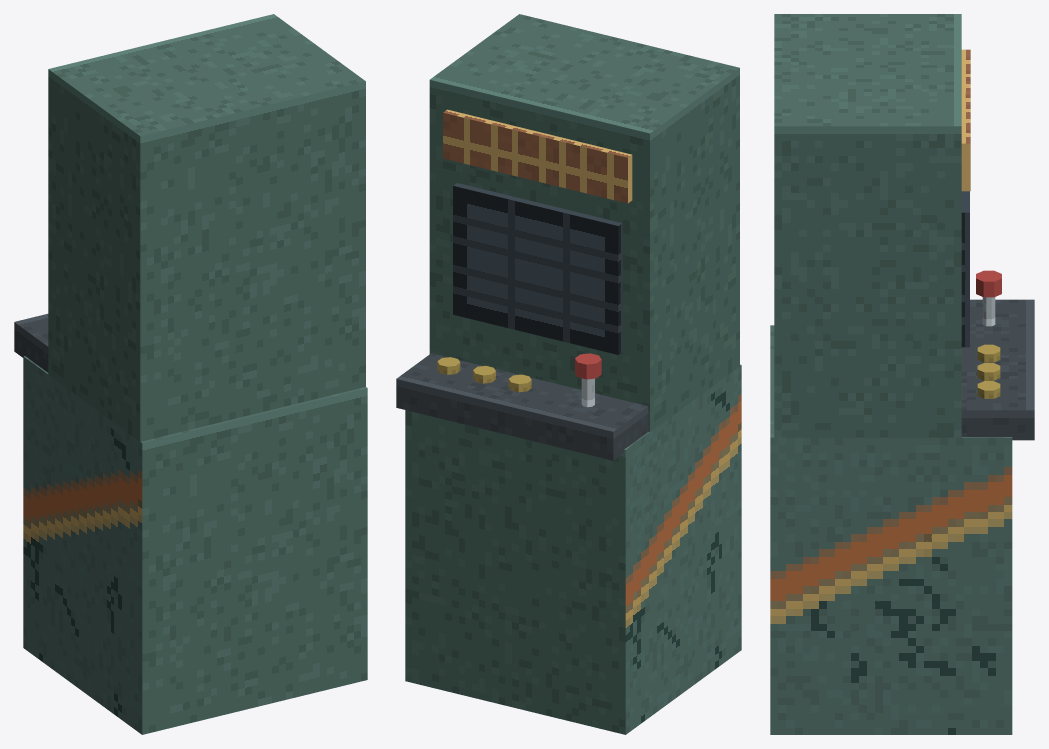
File: f_arcade_machine.glb
3 views of the same model, side by side, from view 1: azimuth 30°, elevation 25°; view 2: azimuth 150°, elevation 25°; view 3: azimuth 270°, elevation 25° (orthographic). The views are drawn at different scales.
Parts seen in each view (by area): view 1: block_upper-cabinet, block_lower-cabinet, block_control-deck; view 2: block_lower-cabinet, block_upper-cabinet, block_arcade-screen, block_control-deck, block_marquee, block_joystick-cap; view 3: block_upper-cabinet, block_lower-cabinet, block_control-deck, block_marquee, block_arcade-screen, block_joystick-cap.
Boxes of the visible parts, <box> form: block_upper-cabinet: <box>48,14,365,441</box>; block_lower-cabinet: <box>23,356,367,734</box>; block_control-deck: <box>14,313,48,372</box>; block_lower-cabinet: <box>405,364,741,734</box>; block_upper-cabinet: <box>429,14,739,431</box>; block_arcade-screen: <box>453,183,622,354</box>; block_control-deck: <box>396,353,648,460</box>; block_marquee: <box>443,109,632,203</box>; block_joystick-cap: <box>575,353,601,379</box>; block_upper-cabinet: <box>774,14,961,437</box>; block_lower-cabinet: <box>770,325,1012,734</box>; block_control-deck: <box>961,299,1034,440</box>; block_marquee: <box>961,49,970,191</box>; block_arcade-screen: <box>961,191,969,347</box>; block_joystick-cap: <box>976,270,1001,297</box>.
Size of the model in its own units: 0.68 by 1.72 by 0.677.
1 material, 1 textured.
